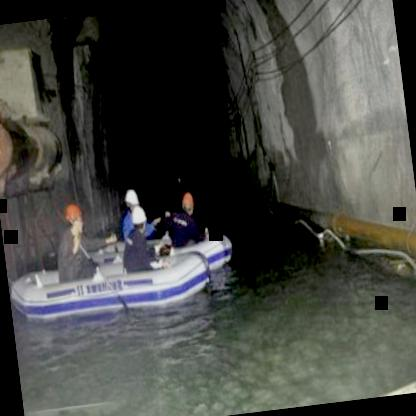helmet: (61, 197, 86, 236), (129, 205, 149, 236), (122, 186, 140, 213), (178, 188, 194, 218)
